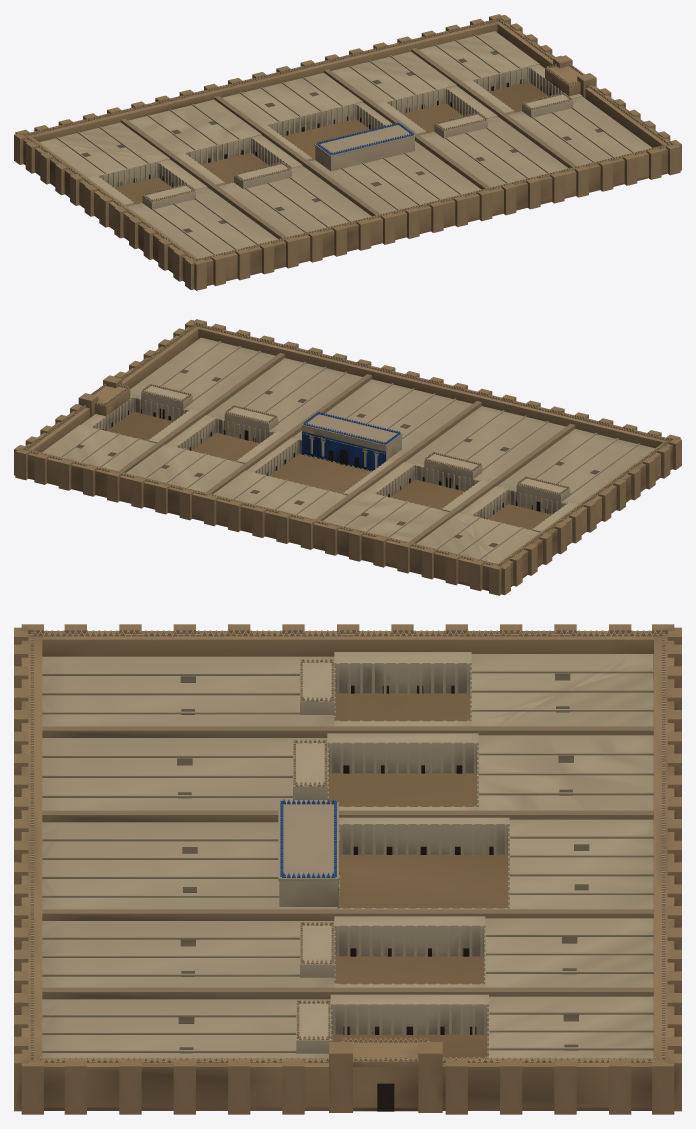
Rendered from southern-palace.glb.
3 renders of one model, top to bottom at view 1: azimuth 30°, elevation 25°; view 2: azimuth 150°, elevation 25°; view 3: azimuth 270°, elevation 25°, orthographic. The views are drawn at different scales.
Parts seen in each view (by area): view 1: p1_courts and halls, p0_walls, p3_crenellations, p2_throne room; view 2: p1_courts and halls, p0_walls, p2_throne room, p3_crenellations; view 3: p1_courts and halls, p0_walls, p2_throne room, p3_crenellations.
Boxes of the visible parts, <box> form: p1_courts and halls: <box>39,31,651,258</box>; p0_walls: <box>14,14,681,290</box>; p3_crenellations: <box>25,18,671,260</box>; p2_throne room: <box>314,55,596,171</box>; p1_courts and halls: <box>42,337,654,563</box>; p0_walls: <box>14,319,681,595</box>; p2_throne room: <box>78,375,402,471</box>; p3_crenellations: <box>25,323,670,565</box>; p1_courts and halls: <box>42,652,653,1058</box>; p0_walls: <box>14,624,681,1114</box>; p2_throne room: <box>278,802,442,1112</box>; p3_crenellations: <box>30,630,665,1062</box>.
Bounding box in the file's own units: 304 × 20.17 × 194.
